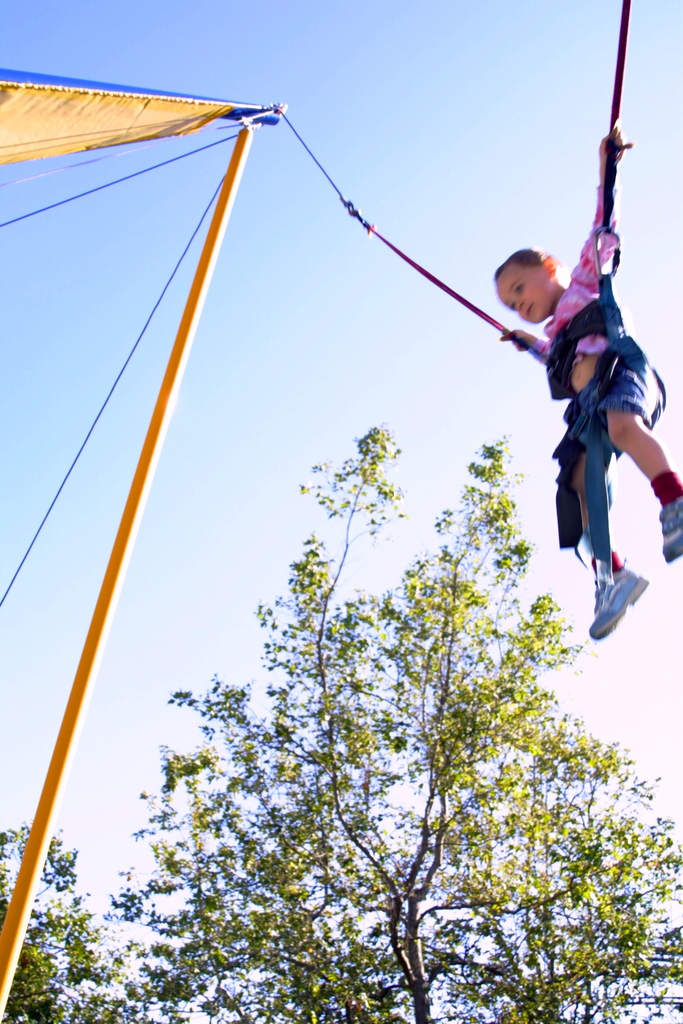Person: (493, 118, 682, 641)
